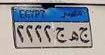2: (43, 24, 52, 44), (34, 24, 43, 42), (25, 24, 33, 44), (16, 24, 24, 42)
haa: (68, 30, 79, 43)
jeem: (55, 26, 67, 45), (79, 26, 90, 44)
